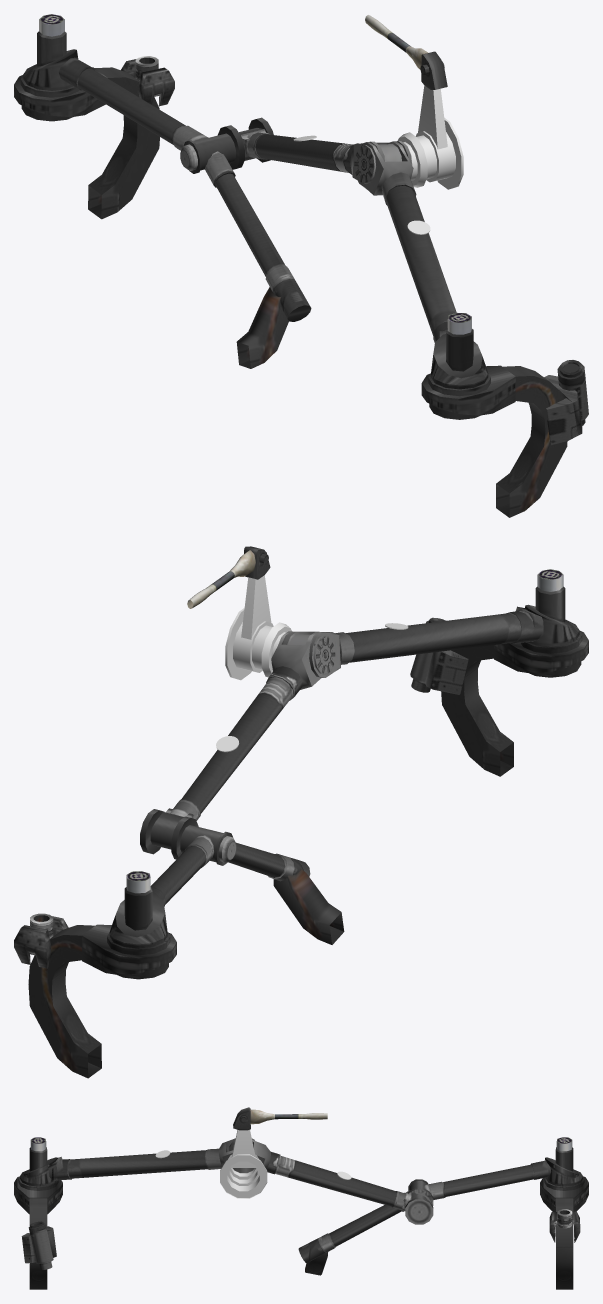
Rendered from curiosity_clean_suspension_right.glb.
3 renders of one model, top to bottom at view 1: azimuth 30°, elevation 25°; view 2: azimuth 150°, elevation 25°; view 3: azimuth 270°, elevation 25°, orthographic. The views are drawn at different scales.
Visible parts, largest first — view 1: showme_suspension_arm_B2_R, showme_suspension_steer_F_R, showme_suspension_arm_F_R, showme_suspension_steer_B_R, showme_suspension_axel_R, showme_suspension_arm_B_R, showme_suspension_rod_R, showme_suspension_axel_R2; view 2: showme_suspension_arm_B2_R, showme_suspension_steer_B_R, showme_suspension_arm_F_R, showme_suspension_steer_F_R, showme_suspension_arm_B_R, showme_suspension_axel_R, showme_suspension_rod_R, showme_suspension_axel_R2; view 3: showme_suspension_arm_B2_R, showme_suspension_arm_F_R, showme_suspension_arm_B_R, showme_suspension_steer_F_R, showme_suspension_steer_B_R, showme_suspension_axel_R, showme_suspension_rod_R.
Part boxes in pixels (x1,y1,x2,y2): showme_suspension_arm_B2_R: (23, 14, 311, 368); showme_suspension_steer_F_R: (421, 360, 588, 517); showme_suspension_arm_F_R: (353, 141, 488, 389); showme_suspension_steer_B_R: (14, 56, 174, 219); showme_suspension_axel_R: (397, 85, 463, 189); showme_suspension_arm_B_R: (238, 128, 411, 179); showme_suspension_rod_R: (365, 15, 447, 89); showme_suspension_axel_R2: (353, 144, 412, 183); showme_suspension_arm_B2_R: (109, 809, 344, 948); showme_suspension_steer_B_R: (14, 913, 176, 1078); showme_suspension_arm_F_R: (283, 569, 579, 677); showme_suspension_steer_F_R: (410, 617, 588, 776); showme_suspension_arm_B_R: (150, 631, 321, 849); showme_suspension_axel_R: (225, 575, 291, 680); showme_suspension_rod_R: (187, 546, 270, 608); showme_suspension_axel_R2: (288, 634, 336, 674); showme_suspension_arm_B2_R: (298, 1137, 582, 1275); showme_suspension_arm_F_R: (20, 1137, 254, 1186); showme_suspension_arm_B_R: (229, 1140, 426, 1210); showme_suspension_steer_F_R: (14, 1176, 62, 1289); showme_suspension_steer_B_R: (540, 1176, 588, 1289); showme_suspension_axel_R: (220, 1129, 267, 1198); showme_suspension_rod_R: (233, 1107, 327, 1130).
Bounding box in the file's own units: 0.1152 × 0.198 × 0.5008.
Materials: 4 (2 with a texture image).
